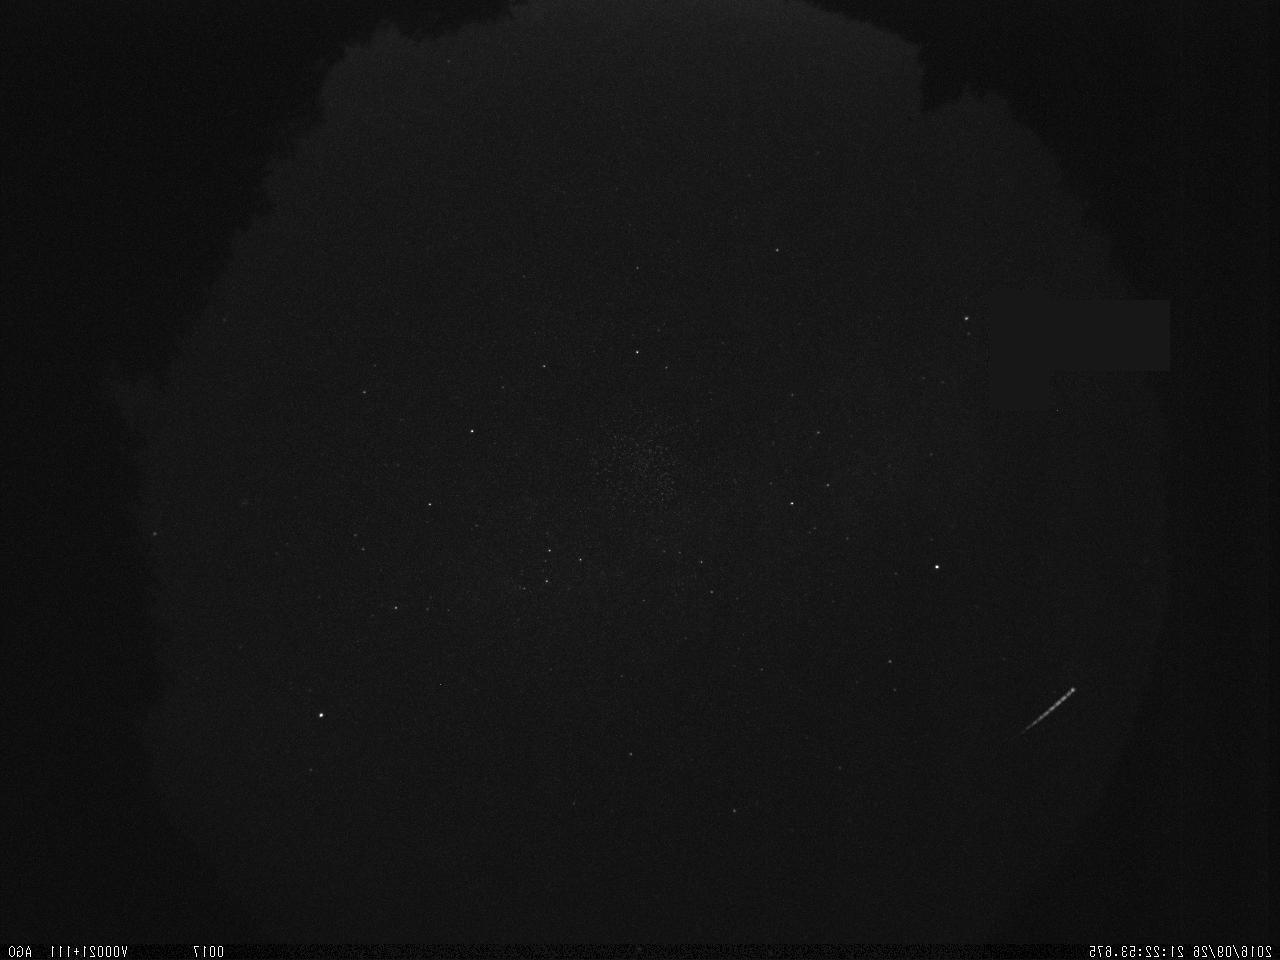meteor: (1007, 679, 1083, 747)
